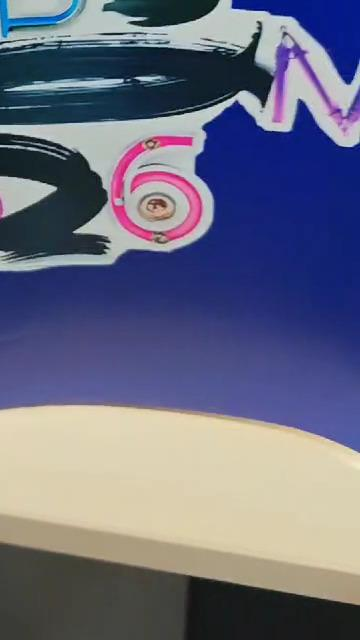B_R1: (0, 0, 355, 374)
